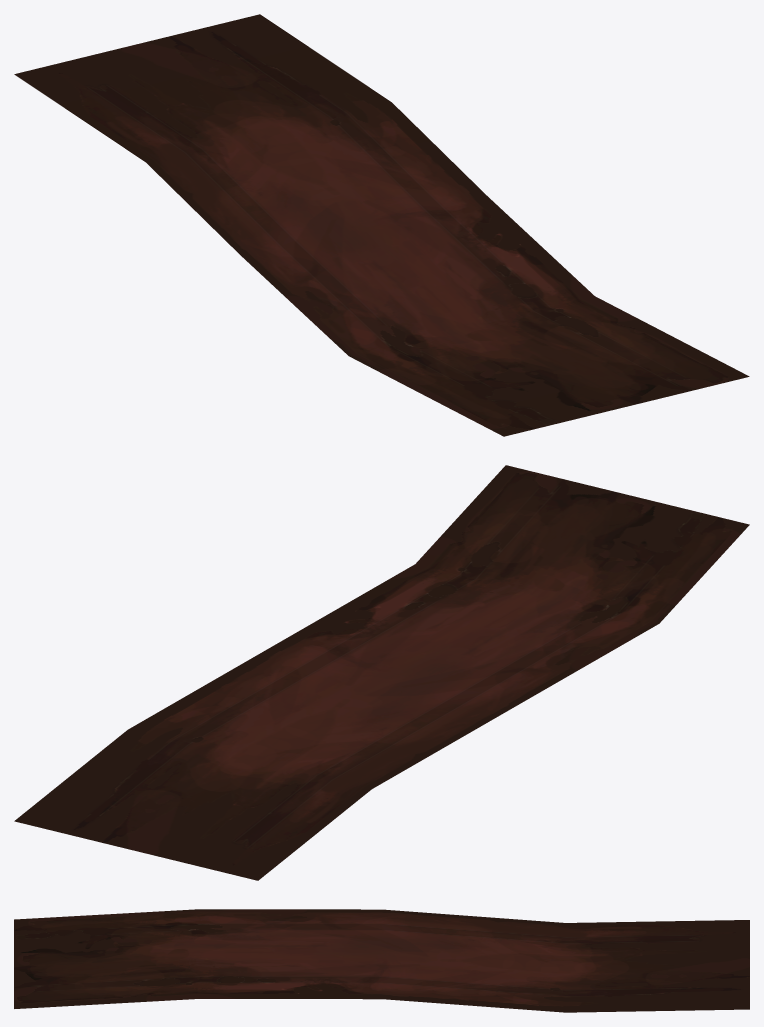
The model's file is carpet002.FBX.
The picture shows the model from 3 angles, top to bottom: view 1: azimuth 30°, elevation 25°; view 2: azimuth 150°, elevation 25°; view 3: azimuth 270°, elevation 25°; orthographic projection. The views are drawn at different scales.
Parts seen in each view (by area): view 1: carpet002; view 2: carpet002; view 3: carpet002.
Boxes of the visible parts, left/top/right/bottom form: carpet002: left=14, top=14, right=749, bottom=436; carpet002: left=14, top=465, right=749, bottom=880; carpet002: left=14, top=909, right=749, bottom=1012.
Bounding box in the file's own units: 758 × 17.55 × 2236.
Materials: 1 (1 with a texture image).
